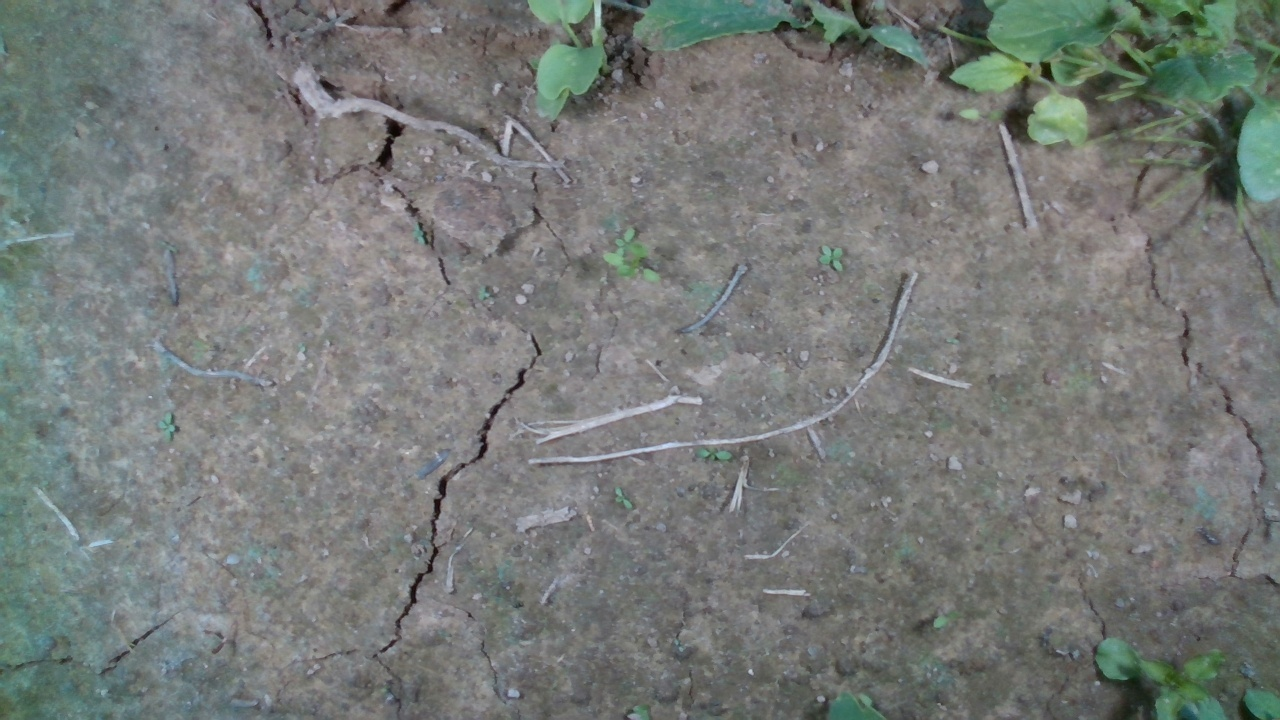weed: (817, 243, 845, 272), (693, 447, 734, 462), (613, 486, 634, 510), (473, 283, 492, 301)
